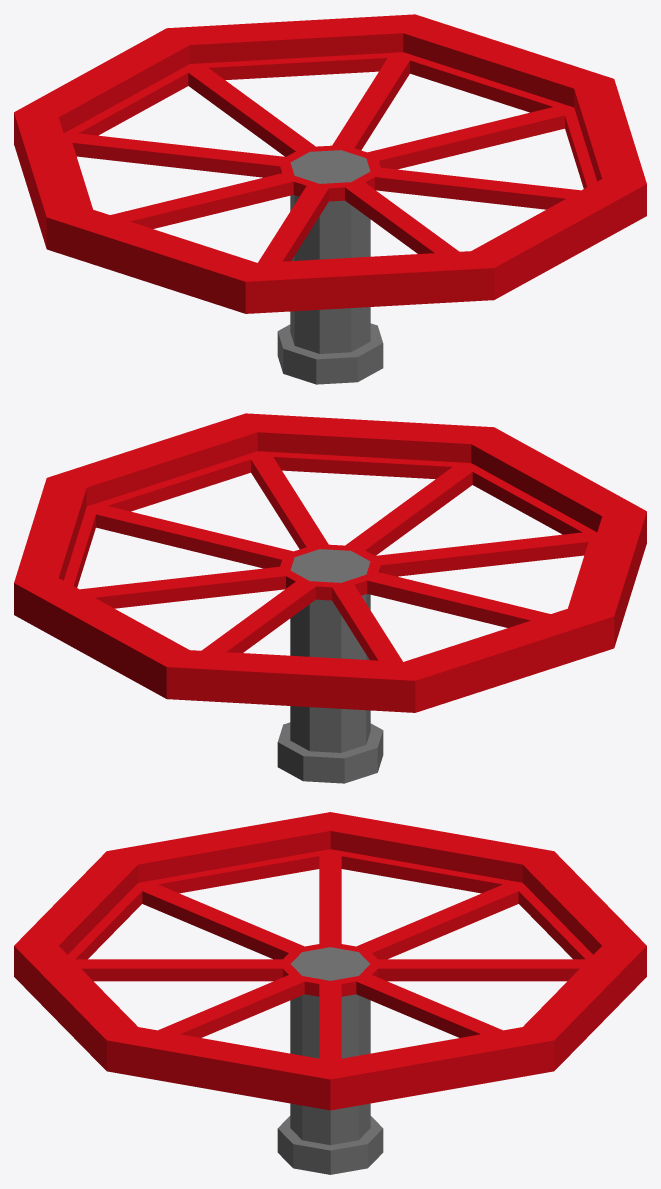
File: valve.fbx
The picture shows the model from 3 angles, top to bottom: view 1: azimuth 30°, elevation 25°; view 2: azimuth 150°, elevation 25°; view 3: azimuth 270°, elevation 25°; orthographic projection. The views are drawn at different scales.
Visible parts, largest first — view 1: valve; view 2: valve; view 3: valve.
Boxes of the visible parts, <box> form: valve: <box>14,14,646,384</box>; valve: <box>14,413,646,783</box>; valve: <box>14,812,646,1174</box>.
Size of the model in its own units: 72 by 25.96 by 72.
